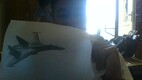maybay_muctieu: (7, 30, 64, 69)
